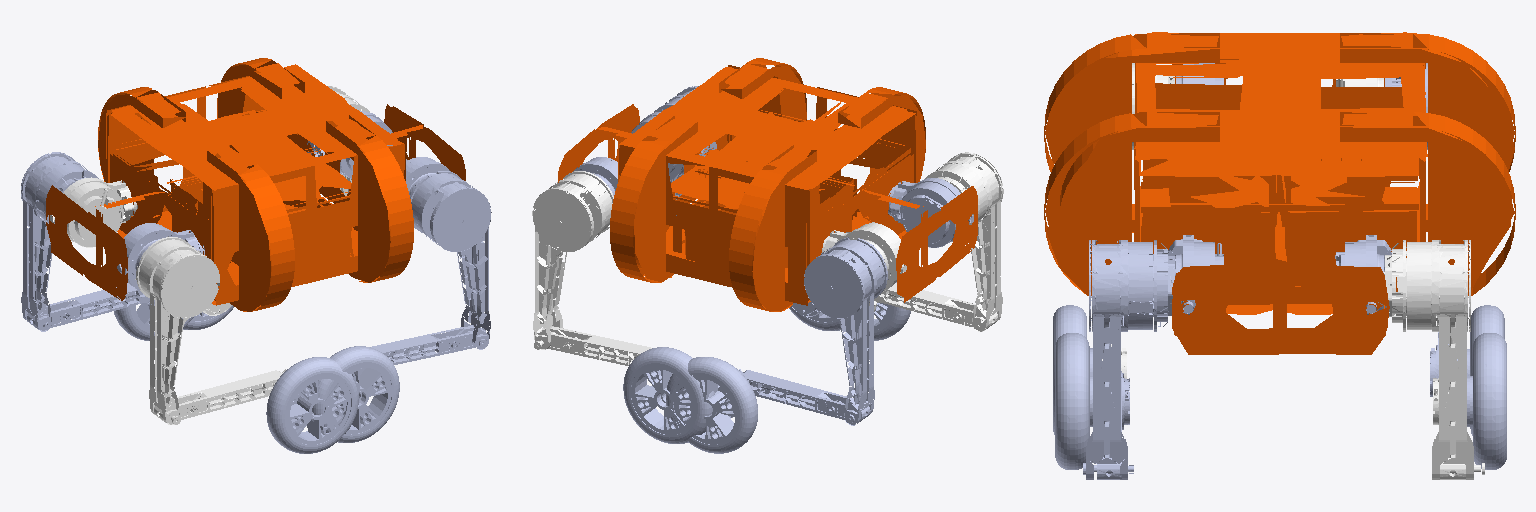
The robot description file, URDF, robot "njust_v2_fixed":
<?xml version="1.0" encoding="utf-8"?>
<robot name="njust_v2_fixed">

    <material name="black">
        <color rgba="0.0 0.0 0.0 1.0"/>
    </material>
    <material name="blue">
        <color rgba="0.0 0.0 0.8 1.0"/>
    </material>
    <material name="green">
        <color rgba="0.0 0.8 0.0 1.0"/>
    </material>
    <material name="grey">
        <color rgba="0.2 0.2 0.2 1.0"/>
    </material>
    <material name="silver">
        <color rgba="0.9137254901960784 0.9137254901960784 0.8470588235294118 1.0"/>
    </material>
    <material name="orange">
        <color rgba="1.0 0.4235294117647059 0.0392156862745098 1.0"/>
    </material>
    <material name="brown">
        <color rgba="0.8705882352941177 0.8117647058823529 0.7647058823529411 1.0"/>
    </material>
    <material name="red">
        <color rgba="0.8 0.0 0.0 1.0"/>
    </material>
    <material name="white">
        <color rgba="1.0 1.0 1.0 1.0"/>
    </material>

    <link name="base">
        <visual>
            <origin rpy="0 0 0" xyz="0 0 0"/>
            <geometry>
                <box size="0.001 0.001 0.001"/>
            </geometry>
        </visual>
    </link>
    <joint name="floating_base" type="fixed">
        <origin rpy="0 0 0" xyz="0 0 0"/>
        <parent link="base"/>
        <child link="trunk"/>
    </joint>
    <link name="trunk">
        <visual>
            <origin rpy="0 0 0" xyz="0 0 0"/>
            <geometry>
                <mesh filename="../meshes/base_link.STL" scale="1 1 1"/>
            </geometry>
            <material name="orange"/>
        </visual>
        <collision>
            <origin rpy="0 0 0" xyz="0 0 0"/>
            <geometry>
                <mesh filename="../meshes/base_link.STL" scale="1 1 1"/>
            </geometry>
            <material name="orange"/>
        </collision>
        <!-- <collision>
            <geometry>
            <box size="0.234 0.184 0.08"/>
            </geometry>
        </collision> -->
        <inertial>
            <origin rpy="0 0 0" xyz="0 0 0"/>
            <mass value="22.002"/>
            <inertia ixx="0.36727" ixy="0.000499" ixz="0.001511" iyy="0.58761" iyz="0.0028" izz="0.83428"/>
        </inertial>
    </link>
    <joint name="imu_joint" type="fixed">
        <parent link="trunk"/>
        <child link="imu_link"/>
        <origin rpy="0 0 0" xyz="0 0 0"/>
    </joint>
    <link name="imu_link">
        <inertial>
            <mass value="0.001"/>
            <origin rpy="0 0 0" xyz="0 0 0"/>
            <inertia ixx="0.0001" ixy="0" ixz="0" iyy="0.0001" iyz="0" izz="0.0001"/>
        </inertial>
        <visual>
            <origin rpy="0 0 0" xyz="0 0 0"/>
            <geometry>
                <box size="0.001 0.001 0.001"/>
            </geometry>
            <material name="red"/>
        </visual>
        <collision>
            <origin rpy="0 0 0" xyz="0 0 0"/>
            <geometry>
                <box size=".001 .001 .001"/>
            </geometry>
        </collision>
    </link>

    <link name="FR_hip">
        <inertial>
            <origin rpy="0 0 0" xyz="0 0 0"/>
            <mass value="1.9984"/>
            <inertia ixx="0.003256" ixy="1E-05" ixz="6E-06" iyy="0.005207" iyz="1.8E-05" izz="0.004451"/>
        </inertial>
        <visual>
            <origin rpy="0 0 0" xyz="0 0 0"/>
            <geometry>
                <mesh filename="../meshes/FR_hip.STL"/>
            </geometry>
            <material name="">
                <color rgba="0.79608 0.82353 0.93725 1"/>
            </material>
        </visual>
        <collision>
            <origin rpy="0 0 0" xyz="0 0 0"/>
            <geometry>
                <mesh filename="../meshes/FR_hip.STL"/>
            </geometry>
        </collision>
    </link>
    <joint name="FR_hip_joint" type="revolute">
        <origin rpy="0 0 0" xyz="0.29 -0.125 0"/>
        <parent link="trunk"/>
        <child link="FR_hip"/>
        <axis xyz="1 0 0"/>
        <limit effort="120" lower="-2.0943951023931953" upper="2.0943951023931953" velocity="10"/>
    </joint>
    <link name="FR_thigh">
        <inertial>
            <origin rpy="0 0 0" xyz="0 0 0"/>
            <mass value="2.375"/>
            <inertia ixx="0.017933" ixy="1.2E-05" ixz="0.002123" iyy="0.014218" iyz="5E-06" izz="0.009414"/>
        </inertial>
        <visual>
            <origin rpy="0 0 0" xyz="0 0 0"/>
            <geometry>
                <mesh filename="../meshes/FR_thigh.STL"/>
            </geometry>
            <material name="">
                <color rgba="0.79608 0.82353 0.93725 1"/>
            </material>
        </visual>
        <collision>
            <origin rpy="0 0 0" xyz="0 0 0"/>
            <geometry>
                <mesh filename="../meshes/FR_thigh.STL"/>
            </geometry>
        </collision>
    </link>
    <joint name="FR_thigh_joint" type="revolute">
        <origin rpy="0 0 0" xyz="0 -0.1115 0"/>
        <parent link="FR_hip"/>
        <child link="FR_thigh"/>
        <axis xyz="0 1 0"/>
        <limit effort="120" lower="-3.490658503988659" upper="0.3490658503988659" velocity="10"/>
    </joint>
    <link name="FR_calf">
        <inertial>
            <origin rpy="0 0 0" xyz="0 0 0"/>
            <mass value="0.66013"/>
            <inertia ixx="0.020461" ixy="5E-06" ixz="0.001151" iyy="0.020648" iyz="0.000173" izz="0.000334"/>
        </inertial>
        <visual>
            <origin rpy="0 0 0" xyz="0 0 0"/>
            <geometry>
                <mesh filename="../meshes/FR_calf.STL"/>
            </geometry>
            <material name="">
                <color rgba="0.79608 0.82353 0.93725 1"/>
            </material>
        </visual>
        <collision>
            <origin rpy="0 0 0" xyz="0 0 0"/>
            <geometry>
                <mesh filename="../meshes/FR_calf.STL"/>
            </geometry>
        </collision>
    </link>
    <joint name="FR_calf_joint" type="revolute">
        <origin rpy="0 0 0" xyz="0.040673 0 -0.2568"/>
        <parent link="FR_thigh"/>
        <child link="FR_calf"/>
        <axis xyz="0 1 0"/>
        <limit effort="120" lower="0.4363323129985824" upper="2.7576202181510405" velocity="10"/>
    </joint>
    <link name="FR_wheel">
        <inertial>
            <origin rpy="0 0 0" xyz="0 0 0"/>
            <mass value="2.4127"/>
            <inertia ixx="0.006334" ixy="0" ixz="0" iyy="0.011762" iyz="0" izz="0.006334"/>
        </inertial>
        <visual>
            <origin rpy="0 0 0" xyz="0 0 0"/>
            <geometry>
                <mesh filename="../meshes/FR_wheel.STL"/>
            </geometry>
            <material name="">
                <color rgba="0.79608 0.82353 0.93725 1"/>
            </material>
        </visual>
        <collision>
            <origin rpy="0 0 0" xyz="0 0 0"/>
            <geometry>
                <mesh filename="../meshes/FR_wheel.STL"/>
            </geometry>
        </collision>
    </link>
    <joint name="FR_wheel_joint" type="revolute">
        <origin rpy="0 0 0" xyz="0.039618 -0.047304 -0.28534"/>
        <parent link="FR_calf"/>
        <child link="FR_wheel"/>
        <axis xyz="0 1 0"/>
        <dynamics damping="0" friction="0"/>
        <limit effort="17" velocity="37"/>
    </joint>
    <link name="FL_hip">
        <inertial>
            <origin rpy="0 0 0" xyz="0 0 0"/>
            <mass value="1.9984"/>
            <inertia ixx="0.003256" ixy="1E-05" ixz="6E-06" iyy="0.005207" iyz="1.8E-05" izz="0.004451"/>
        </inertial>
        <visual>
            <origin rpy="0 0 0" xyz="0 0 0"/>
            <geometry>
                <mesh filename="../meshes/FL_hip.STL"/>
            </geometry>
            <material name="">
                <color rgba="0.79608 0.82353 0.93725 1"/>
            </material>
        </visual>
        <collision>
            <origin rpy="0 0 0" xyz="0 0 0"/>
            <geometry>
                <mesh filename="../meshes/FL_hip.STL"/>
            </geometry>
        </collision>
    </link>

    <joint name="FL_hip_joint" type="revolute">
        <origin rpy="0 0 0" xyz="0.29 0.125 0"/>
        <parent link="trunk"/>
        <child link="FL_hip"/>
        <axis xyz="1 0 0"/>
        <limit effort="120" lower="-2.0943951023931953" upper="2.0943951023931953" velocity="10"/>
    </joint>
    <link name="FL_thigh">
        <inertial>
            <origin rpy="0 0 0" xyz="0 0 0"/>
            <mass value="2.375"/>
            <inertia ixx="0.01793" ixy="1E-06" ixz="0.002121" iyy="0.014218" iyz="1E-05" izz="0.009417"/>
        </inertial>
        <visual>
            <origin rpy="0 0 0" xyz="0 0 0"/>
            <geometry>
                <mesh filename="../meshes/FL_thigh.STL"/>
            </geometry>
            <material name="">
                <color rgba="1 1 1 1"/>
            </material>
        </visual>
        <collision>
            <origin rpy="0 0 0" xyz="0 0 0"/>
            <geometry>
                <mesh filename="../meshes/FL_thigh.STL"/>
            </geometry>
        </collision>
    </link>
    <joint name="FL_thigh_joint" type="revolute">
        <origin rpy="0 0 0" xyz="0 0.1115 0"/>
        <parent link="FL_hip"/>
        <child link="FL_thigh"/>
        <axis xyz="0 1 0"/>
        <limit effort="120" lower="-3.490658503988659" upper="0.3490658503988659" velocity="10"/>
    </joint>
    <link name="FL_calf">
        <inertial>
            <origin rpy="0 0 0" xyz="0 0 0"/>
            <mass value="0.66013"/>
            <inertia ixx="0.020458" ixy="1.9E-05" ixz="0.001151" iyy="0.020648" iyz="0.000142" izz="0.000331"/>
        </inertial>
        <visual>
            <origin rpy="0 0 0" xyz="0 0 0"/>
            <geometry>
                <mesh filename="../meshes/FL_calf.STL"/>
            </geometry>
            <material name="">
                <color rgba="1 1 1 1"/>
            </material>
        </visual>
        <collision>
            <origin rpy="0 0 0" xyz="0 0 0"/>
            <geometry>
                <mesh filename="../meshes/FL_calf.STL"/>
            </geometry>
        </collision>
    </link>
    <joint name="FL_calf_joint" type="revolute">
        <origin rpy="0 0 0" xyz="0.040673 0 -0.2568"/>
        <parent link="FL_thigh"/>
        <child link="FL_calf"/>
        <axis xyz="0 1 0"/>
        <limit effort="120" lower="0.4363323129985824" upper="2.7576202181510405" velocity="10"/>
    </joint>
    <link name="FL_wheel">
        <inertial>
            <origin rpy="0 0 0" xyz="0 0 0"/>
            <mass value="2.4127"/>
            <inertia ixx="0.006334" ixy="0" ixz="0" iyy="0.011762" iyz="0" izz="0.006334"/>
        </inertial>
        <visual>
            <origin rpy="0 0 0" xyz="0 0 0"/>
            <geometry>
                <mesh filename="../meshes/FL_wheel.STL"/>
            </geometry>
            <material name="">
                <color rgba="0.79608 0.82353 0.93725 1"/>
            </material>
        </visual>
        <collision>
            <origin rpy="0 0 0" xyz="0 0 0"/>
            <geometry>
                <mesh filename="../meshes/FL_wheel.STL"/>
            </geometry>
        </collision>
    </link>
    <joint name="FL_wheel_joint" type="revolute">
        <origin rpy="0 0 0" xyz="0.039618 0.0505 -0.28534"/>
        <parent link="FL_calf"/>
        <child link="FL_wheel"/>
        <axis xyz="0 -1 0"/>
        <dynamics damping="0" friction="0"/>
        <limit effort="17" velocity="37"/>
    </joint>

    <link name="RR_hip">
        <inertial>
            <origin rpy="0 0 0" xyz="0 0 0"/>
            <mass value="1.9984"/>
            <inertia ixx="0.003256" ixy="1E-05" ixz="6E-06" iyy="0.005207" iyz="1.8E-05" izz="0.004451"/>
        </inertial>
        <visual>
            <origin rpy="0 0 0" xyz="0 0 0"/>
            <geometry>
                <mesh filename="../meshes/RR_hip.STL"/>
            </geometry>
            <material name="">
                <color rgba="0.79608 0.82353 0.93725 1"/>
            </material>
        </visual>
        <collision>
            <origin rpy="0 0 0" xyz="0 0 0"/>
            <geometry>
                <mesh filename="../meshes/RR_hip.STL"/>
            </geometry>
        </collision>
    </link>
    <joint name="RR_hip_joint" type="revolute">
        <origin rpy="0 0 0" xyz="-0.29 -0.125 0"/>
        <parent link="trunk"/>
        <child link="RR_hip"/>
        <axis xyz="1 0 0"/>
        <limit effort="120" lower="-2.0943951023931953" upper="2.0943951023931953" velocity="10"/>
    </joint>
    <link name="RR_thigh">
        <inertial>
            <origin rpy="0 0 0" xyz="0 0 0"/>
            <mass value="2.375"/>
            <inertia ixx="0.01793" ixy="1E-06" ixz="0.002121" iyy="0.014218" iyz="1E-05" izz="0.009417"/>
        </inertial>
        <visual>
            <origin rpy="0 0 0" xyz="0 0 0"/>
            <geometry>
                <mesh filename="../meshes/RR_thigh.STL"/>
            </geometry>
            <material name="">
                <color rgba="1 1 1 1"/>
            </material>
        </visual>
        <collision>
            <origin rpy="0 0 0" xyz="0 0 0"/>
            <geometry>
                <mesh filename="../meshes/RR_thigh.STL"/>
            </geometry>
        </collision>
    </link>
    <joint name="RR_thigh_joint" type="revolute">
        <origin rpy="0 0 0" xyz="0 -0.1115 0"/>
        <parent link="RR_hip"/>
        <child link="RR_thigh"/>
        <axis xyz="0 1 0"/>
        <limit effort="120" lower="-0.3490658503988659" upper="3.490658503988659" velocity="10"/>
    </joint>
    <link name="RR_calf">
        <inertial>
            <origin rpy="0 0 0" xyz="0 0 0"/>
            <mass value="0.66013"/>
            <inertia ixx="0.020458" ixy="1.9E-05" ixz="0.001151" iyy="0.020648" iyz="0.000142" izz="0.000331"/>
        </inertial>
        <visual>
            <origin rpy="0 0 0" xyz="0 0 0"/>
            <geometry>
                <mesh filename="../meshes/RR_calf.STL"/>
            </geometry>
            <material name="">
                <color rgba="1 1 1 1"/>
            </material>
        </visual>
        <collision>
            <origin rpy="0 0 0" xyz="0 0 0"/>
            <geometry>
                <mesh filename="../meshes/RR_calf.STL"/>
            </geometry>
        </collision>
    </link>
    <joint name="RR_calf_joint" type="revolute">
        <origin rpy="0 0 0" xyz="-0.040673 0 -0.2568"/>
        <parent link="RR_thigh"/>
        <child link="RR_calf"/>
        <axis xyz="0 1 0"/>
        <limit effort="120" lower="-2.7576202181510405" upper="-0.4363323129985824" velocity="10"/>
    </joint>
    <link name="RR_wheel">
        <inertial>
            <origin rpy="0 0 0" xyz="0 0 0"/>
            <mass value="2.4127"/>
            <inertia ixx="0.006334" ixy="0" ixz="0" iyy="0.011762" iyz="0" izz="0.006334"/>
        </inertial>
        <visual>
            <origin rpy="0 0 0" xyz="0 0 0"/>
            <geometry>
                <mesh filename="../meshes/RR_wheel.STL"/>
            </geometry>
            <material name="">
                <color rgba="0.79608 0.82353 0.93725 1"/>
            </material>
        </visual>
        <collision>
            <origin rpy="0 0 0" xyz="0 0 0"/>
            <geometry>
                <mesh filename="../meshes/RR_wheel.STL"/>
            </geometry>
        </collision>
    </link>
    <joint name="RR_wheel_joint" type="revolute">
        <origin rpy="0 0 0" xyz="-0.039618 -0.0505 -0.28534"/>
        <parent link="RR_calf"/>
        <child link="RR_wheel"/>
        <axis xyz="0 1 0"/>
        <dynamics damping="0" friction="0"/>
        <limit effort="17" velocity="37"/>
    </joint>

    <link name="RL_hip">
        <inertial>
            <origin rpy="0 0 0" xyz="0 0 0"/>
            <mass value="1.9984"/>
            <inertia ixx="0.003256" ixy="1E-05" ixz="6E-06" iyy="0.005207" iyz="1.8E-05" izz="0.004451"/>
        </inertial>
        <visual>
            <origin rpy="0 0 0" xyz="0 0 0"/>
            <geometry>
                <mesh filename="../meshes/RL_hip.STL"/>
            </geometry>
            <material name="">
                <color rgba="1 1 1 1"/>
            </material>
        </visual>
        <collision>
            <origin rpy="0 0 0" xyz="0 0 0"/>
            <geometry>
                <mesh filename="../meshes/RL_hip.STL"/>
            </geometry>
        </collision>
    </link>
    <joint name="RL_hip_joint" type="revolute">
        <origin rpy="0 0 0" xyz="-0.29 0.125 0"/>
        <parent link="trunk"/>
        <child link="RL_hip"/>
        <axis xyz="1 0 0"/>
        <limit effort="120" lower="-2.0943951023931953" upper="2.0943951023931953" velocity="10"/>
    </joint>
    <link name="RL_thigh">
        <inertial>
            <origin rpy="0 0 0" xyz="0 0 0"/>
            <mass value="2.375"/>
            <inertia ixx="0.017933" ixy="1.2E-05" ixz="0.002123" iyy="0.014218" iyz="5E-06" izz="0.009414"/>
        </inertial>
        <visual>
            <origin rpy="0 0 0" xyz="0 0 0"/>
            <geometry>
                <mesh filename="../meshes/RL_thigh.STL"/>
            </geometry>
            <material name="">
                <color rgba="0.79608 0.82353 0.93725 1"/>
            </material>
        </visual>
        <collision>
            <origin rpy="0 0 0" xyz="0 0 0"/>
            <geometry>
                <mesh filename="../meshes/RL_thigh.STL"/>
            </geometry>
        </collision>
    </link>
    <joint name="RL_thigh_joint" type="revolute">
        <origin rpy="0 0 0" xyz="0 0.1115 0"/>
        <parent link="RL_hip"/>
        <child link="RL_thigh"/>
        <axis xyz="0 1 0"/>
        <limit effort="120" lower="-0.3490658503988659" upper="3.490658503988659" velocity="10"/>
    </joint>
    <link name="RL_calf">
        <inertial>
            <origin rpy="0 0 0" xyz="0 0 0"/>
            <mass value="0.66013"/>
            <inertia ixx="0.020461" ixy="5E-06" ixz="0.001151" iyy="0.020648" iyz="0.000173" izz="0.000334"/>
        </inertial>
        <visual>
            <origin rpy="0 0 0" xyz="0 0 0"/>
            <geometry>
                <mesh filename="../meshes/RL_calf.STL"/>
            </geometry>
            <material name="">
                <color rgba="0.79608 0.82353 0.93725 1"/>
            </material>
        </visual>
        <collision>
            <origin rpy="0 0 0" xyz="0 0 0"/>
            <geometry>
                <mesh filename="../meshes/RL_calf.STL"/>
            </geometry>
        </collision>
    </link>
    <joint name="RL_calf_joint" type="revolute">
        <origin rpy="0 0 0" xyz="-0.040673 0 -0.2568"/>
        <parent link="RL_thigh"/>
        <child link="RL_calf"/>
        <axis xyz="0 1 0"/>
        <limit effort="120" lower="-2.7576202181510405" upper="-0.4363323129985824" velocity="10"/>
    </joint>
    <link name="RL_wheel">
        <inertial>
            <origin rpy="0 0 0" xyz="0 0 0"/>
            <mass value="2.4127"/>
            <inertia ixx="0.006334" ixy="0" ixz="0" iyy="0.011762" iyz="0" izz="0.006334"/>
        </inertial>
        <visual>
            <origin rpy="0 0 0" xyz="0 0 0"/>
            <geometry>
                <mesh filename="../meshes/RL_wheel.STL"/>
            </geometry>
            <material name="">
                <color rgba="0.79608 0.82353 0.93725 1"/>
            </material>
        </visual>
        <collision>
            <origin rpy="0 0 0" xyz="0 0 0"/>
            <geometry>
                <mesh filename="../meshes/RL_wheel.STL"/>
            </geometry>
        </collision>
    </link>
    <joint name="RL_wheel_joint" type="revolute">
        <origin rpy="0 0 0" xyz="-0.039618 0.047304 -0.28534"/>
        <parent link="RL_calf"/>
        <child link="RL_wheel"/>
        <axis xyz="0 -1 0"/>
        <dynamics damping="0" friction="0"/>
        <limit effort="17" velocity="37"/>
    </joint>

</robot>

--- What the picture shows (computed from the rendered views, not written in the file) ---
The picture shows the robot from 3 angles, left to right: view 1: azimuth 30°, elevation 25°; view 2: azimuth 150°, elevation 25°; view 3: azimuth 270°, elevation 25°; orthographic projection.
Model njust_v2_fixed with 19 links and 18 joints (16 revolute, 2 fixed), rooted at base, posed joints at zero except 4 at the middle of their limits (FR_calf_joint = 1.6, FL_calf_joint = 1.6, RR_calf_joint = -1.6, RL_calf_joint = -1.6).
Links seen in each view (by area): view 1: trunk, RR_thigh, FR_thigh, RR_wheel, RL_thigh, FR_wheel, RL_hip, RR_calf, FR_calf, RL_calf, RR_hip, RL_wheel (+2 smaller); view 2: trunk, RL_thigh, FL_thigh, FL_wheel, RR_thigh, RL_wheel, RR_hip, RL_calf, FL_calf, RR_calf, RL_hip, RR_wheel (+2 smaller); view 3: trunk, FL_thigh, FR_thigh, FL_wheel, FR_wheel, FR_hip, FL_hip, RR_wheel, RL_wheel, FR_calf, FL_calf.
Boxes of the visible links, bbox=[...] form: trunk: bbox=[46, 58, 465, 311]; RR_thigh: bbox=[135, 236, 219, 424]; FR_thigh: bbox=[410, 170, 491, 349]; RR_wheel: bbox=[266, 357, 358, 453]; RL_thigh: bbox=[21, 152, 98, 331]; FR_wheel: bbox=[311, 346, 399, 442]; RL_hip: bbox=[50, 177, 137, 247]; RR_calf: bbox=[154, 369, 285, 424]; FR_calf: bbox=[360, 325, 486, 374]; RL_calf: bbox=[27, 283, 182, 329]; RR_hip: bbox=[117, 223, 204, 290]; RL_wheel: bbox=[114, 296, 193, 340]; trunk: bbox=[558, 58, 977, 311]; RL_thigh: bbox=[804, 237, 888, 425]; FL_thigh: bbox=[532, 171, 613, 349]; FL_wheel: bbox=[623, 347, 714, 443]; RR_thigh: bbox=[925, 152, 1003, 331]; RL_wheel: bbox=[666, 357, 757, 453]; RR_hip: bbox=[888, 178, 973, 247]; RL_calf: bbox=[729, 369, 870, 422]; FL_calf: bbox=[534, 326, 651, 365]; RR_calf: bbox=[869, 283, 997, 328]; RL_hip: bbox=[821, 222, 906, 291]; RR_wheel: bbox=[869, 282, 910, 340]; trunk: bbox=[1044, 32, 1515, 354]; FL_thigh: bbox=[1384, 240, 1473, 479]; FR_thigh: bbox=[1086, 240, 1175, 479]; FL_wheel: bbox=[1467, 333, 1506, 469]; FR_wheel: bbox=[1055, 333, 1092, 469]; FR_hip: bbox=[1168, 235, 1223, 314]; FL_hip: bbox=[1335, 235, 1391, 314]; RR_wheel: bbox=[1053, 305, 1092, 434]; RL_wheel: bbox=[1467, 305, 1504, 435]; FR_calf: bbox=[1083, 371, 1133, 479]; FL_calf: bbox=[1433, 378, 1484, 479].
Bounding box of the posed robot: 0.73 × 0.644 × 0.5578 m (x, y, z).
Meshes: 17 distinct files referenced, 17 mesh visuals loaded (17 binary STL).